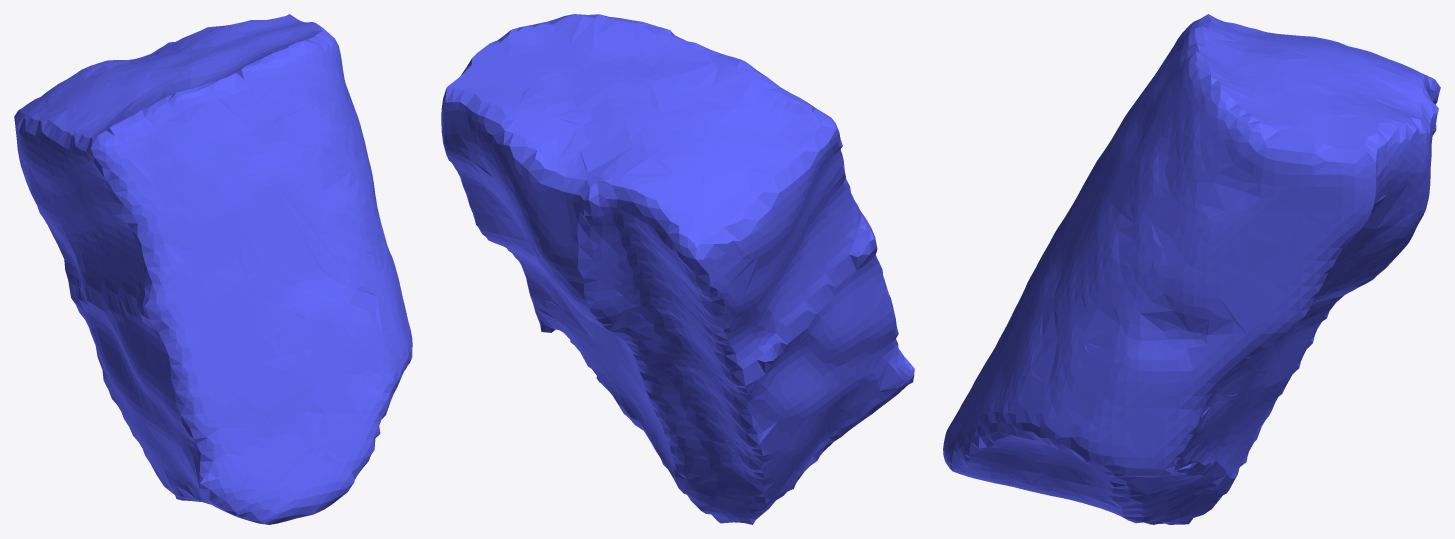
The model's file is Model_10035_LH__Area_6_of_cortex__medial_(supplementary_motor)_part_(A6M).obj.
3 views of the same model, side by side, from view 1: azimuth 30°, elevation 25°; view 2: azimuth 150°, elevation 25°; view 3: azimuth 270°, elevation 25° (orthographic). The views are drawn at different scales.
Size of the model in its own units: 2.81 by 4.09 by 3.67.
